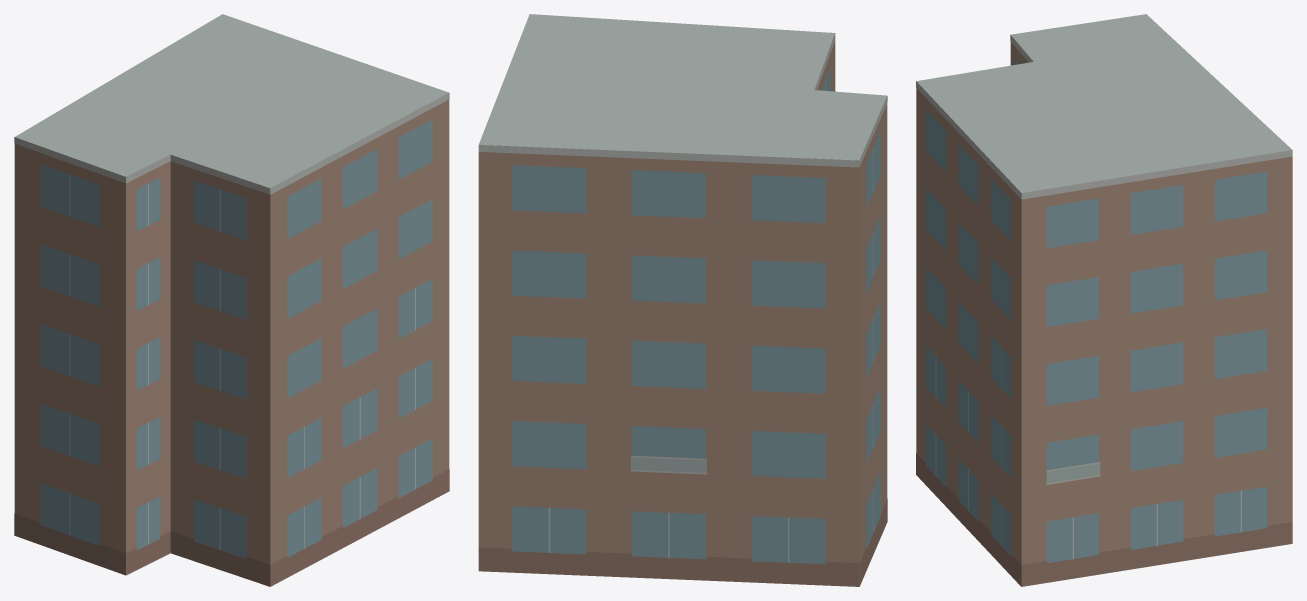
The model's file is survey-upis-32951656.glb.
3 views of the same model, side by side, from view 1: azimuth 30°, elevation 25°; view 2: azimuth 150°, elevation 25°; view 3: azimuth 270°, elevation 25° (orthographic). The views are drawn at different scales.
Visible parts, largest first — view 1: survey-upis-32951656.tmp; view 2: survey-upis-32951656.tmp; view 3: survey-upis-32951656.tmp.
Boxes of the visible parts, x1,y1,x2,y2 form: survey-upis-32951656.tmp: (14,14,449,586); survey-upis-32951656.tmp: (478,14,887,586); survey-upis-32951656.tmp: (916,14,1292,586).
Bounding box in the file's own units: 14.5 × 14.85 × 12.88.
